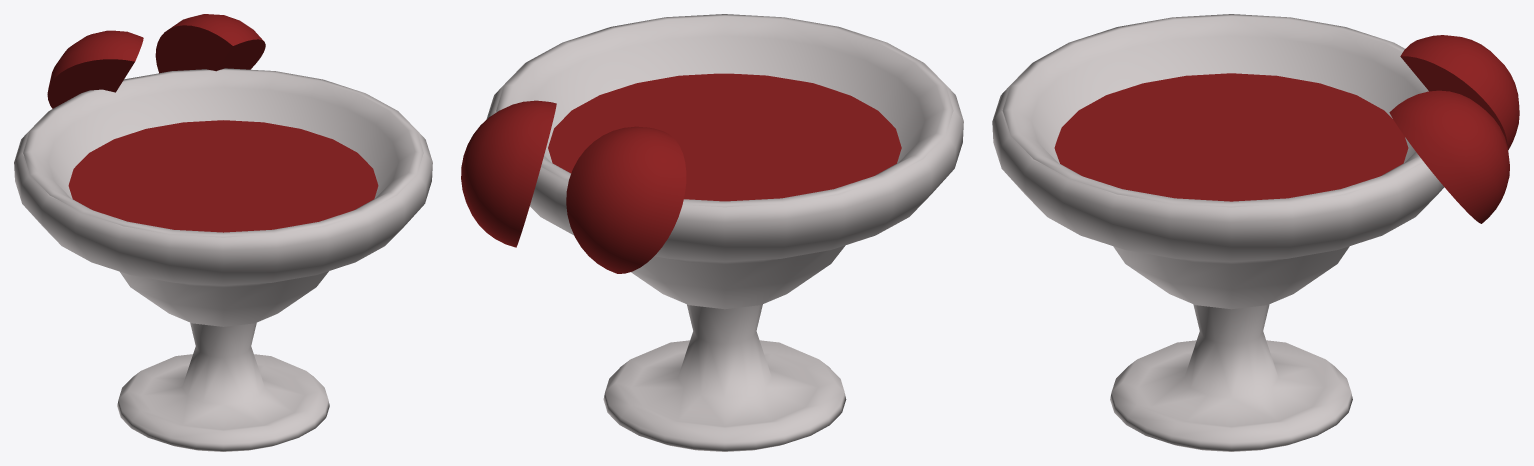
File: red cocktail.fbx
3 views of the same model, side by side, from view 1: azimuth 30°, elevation 25°; view 2: azimuth 150°, elevation 25°; view 3: azimuth 270°, elevation 25° (orthographic). The views are drawn at different scales.
Visible parts, largest first — view 1: nurbsToPoly1, pCylinder1, pasted__pSphere1, pSphere1; view 2: nurbsToPoly1, pCylinder1, pSphere1, pasted__pSphere1; view 3: nurbsToPoly1, pCylinder1, pasted__pSphere1, pSphere1.
Part boxes in pixels (box(x1,y1,x2,y2)): nurbsToPoly1: box(14, 68, 432, 451); pCylinder1: box(68, 120, 378, 232); pasted__pSphere1: box(155, 14, 265, 73); pSphere1: box(47, 30, 143, 108); nurbsToPoly1: box(486, 14, 963, 451); pCylinder1: box(548, 73, 901, 201); pSphere1: box(566, 126, 686, 273); pasted__pSphere1: box(461, 100, 556, 247); nurbsToPoly1: box(992, 14, 1444, 451); pCylinder1: box(1054, 73, 1408, 201); pasted__pSphere1: box(1389, 90, 1509, 223); pSphere1: box(1400, 35, 1519, 149).
Bounding box in the file's own units: 6.28 × 5.15 × 6.92.
